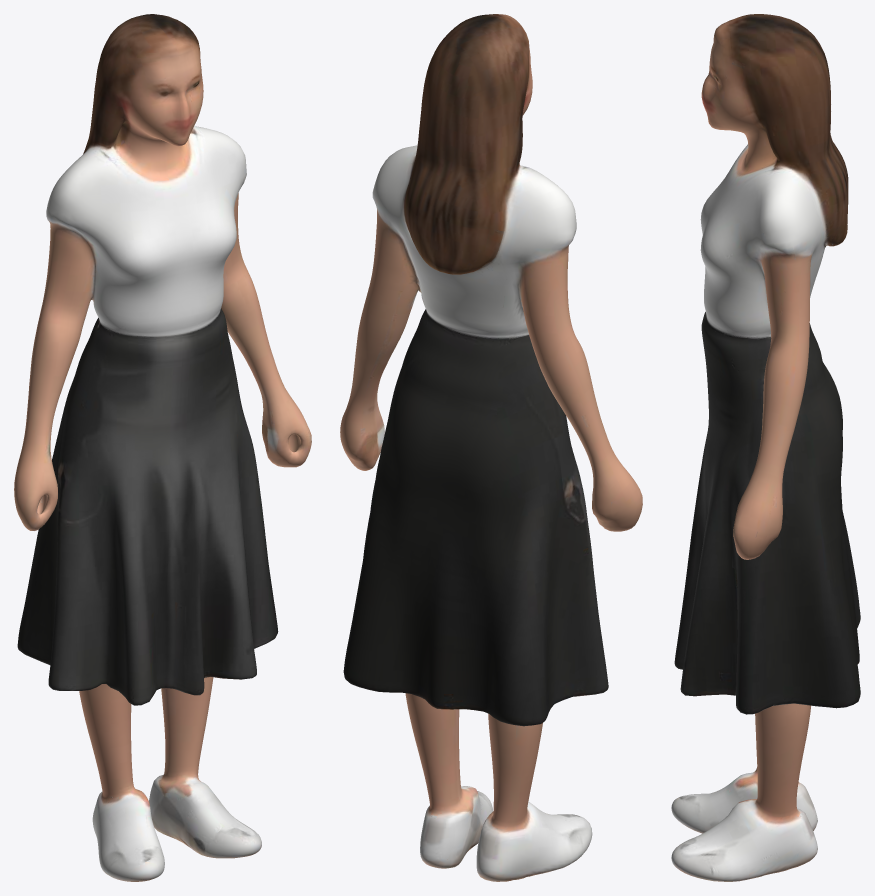
3 views of the same model, side by side, from view 1: azimuth 30°, elevation 25°; view 2: azimuth 150°, elevation 25°; view 3: azimuth 270°, elevation 25° (orthographic).
Visible parts, largest first — view 1: model; view 2: model; view 3: model.
Boxes of the visible parts, x1,y1,x2,y2 form: model: (14, 14, 311, 881); model: (340, 14, 642, 881); model: (671, 14, 860, 881).
Bounding box in the file's own units: 0.6993 × 1.9 × 0.3915.
1 material, 1 textured.
